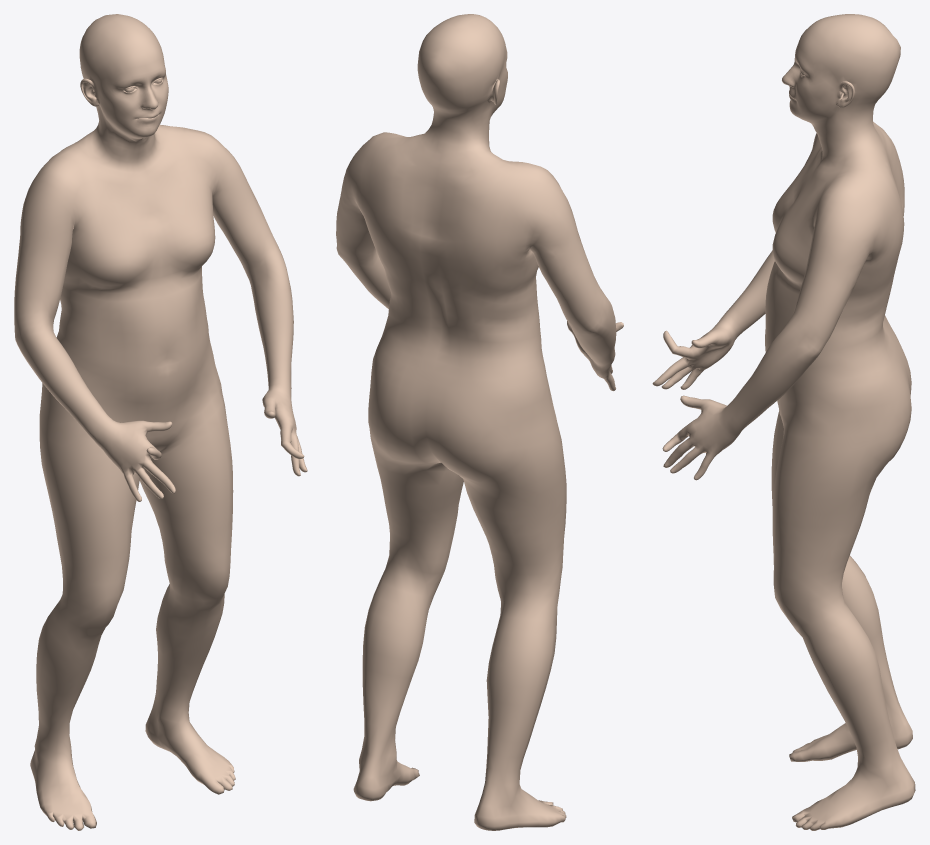
Rendered from WORD-00426.glb.
3 views of the same model, side by side, from view 1: azimuth 30°, elevation 25°; view 2: azimuth 150°, elevation 25°; view 3: azimuth 270°, elevation 25° (orthographic). The views are drawn at different scales.
Bounding box in the file's own units: 0.6072 × 1.72 × 0.5305.
